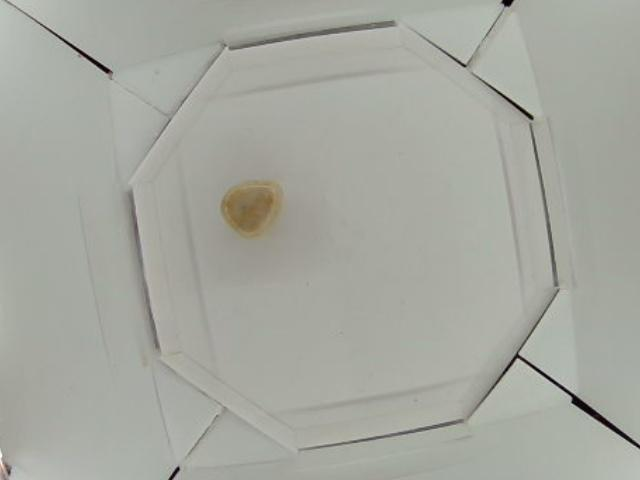Pebble: (219, 180, 284, 239)
